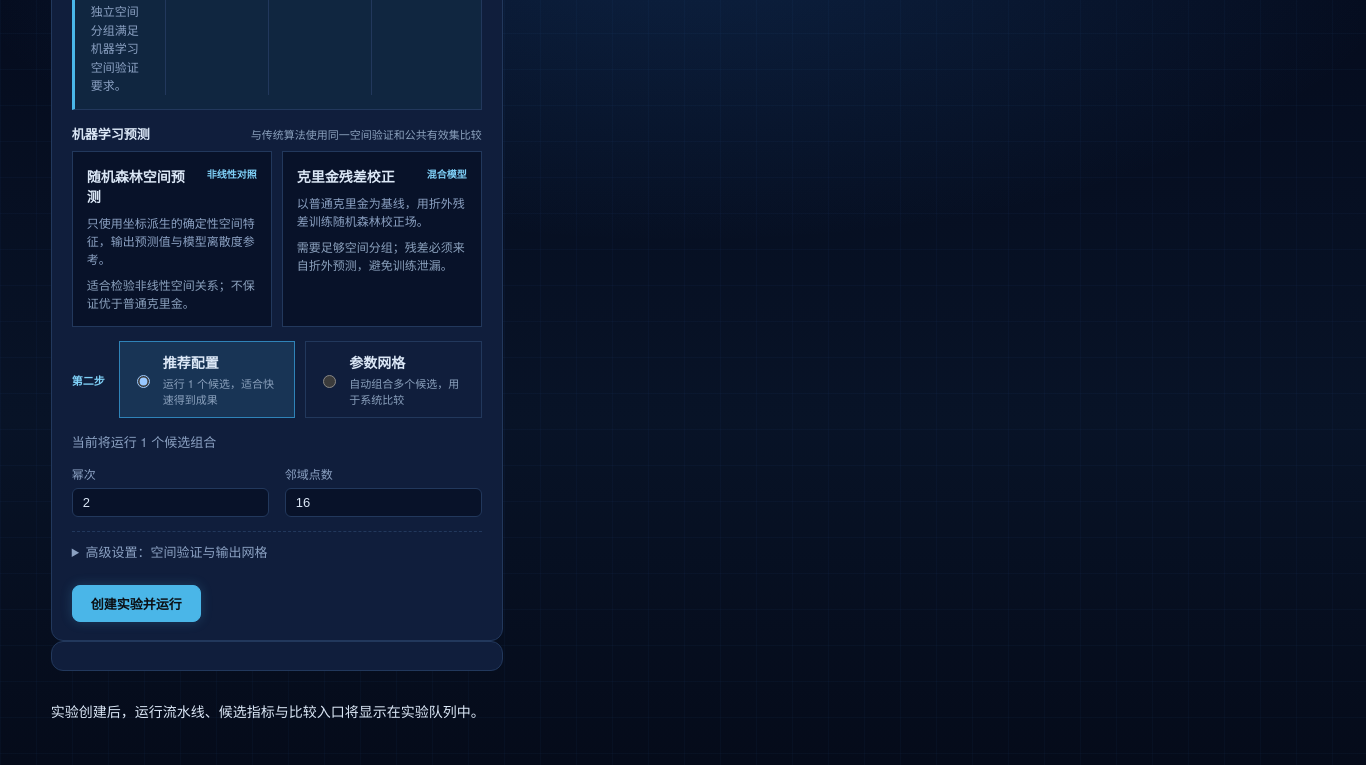
ExperimentView 微震预设 › 通用数据集不显示 z_scale 控件且默认体验不变
(page scrolled)
Click the radio button with test id "mode-grid": coordinates (330, 381) x1=323 y1=375 x2=336 y2=388
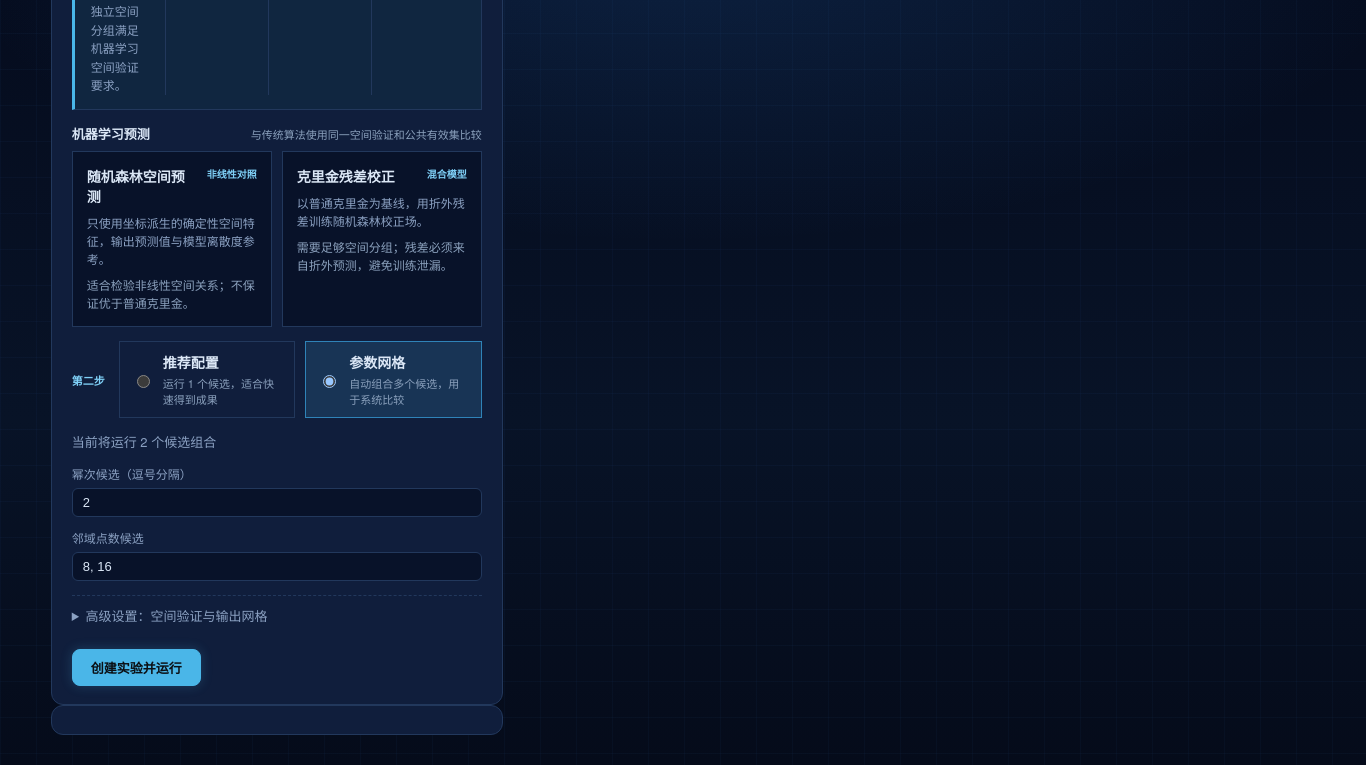
Check: the field with test id "grid-power" holds "2", box x1=72 y1=488 x2=482 y2=517
Check: the field with test id "grid-neighbors" holds "8, 16", box x1=72 y1=552 x2=482 y2=581
